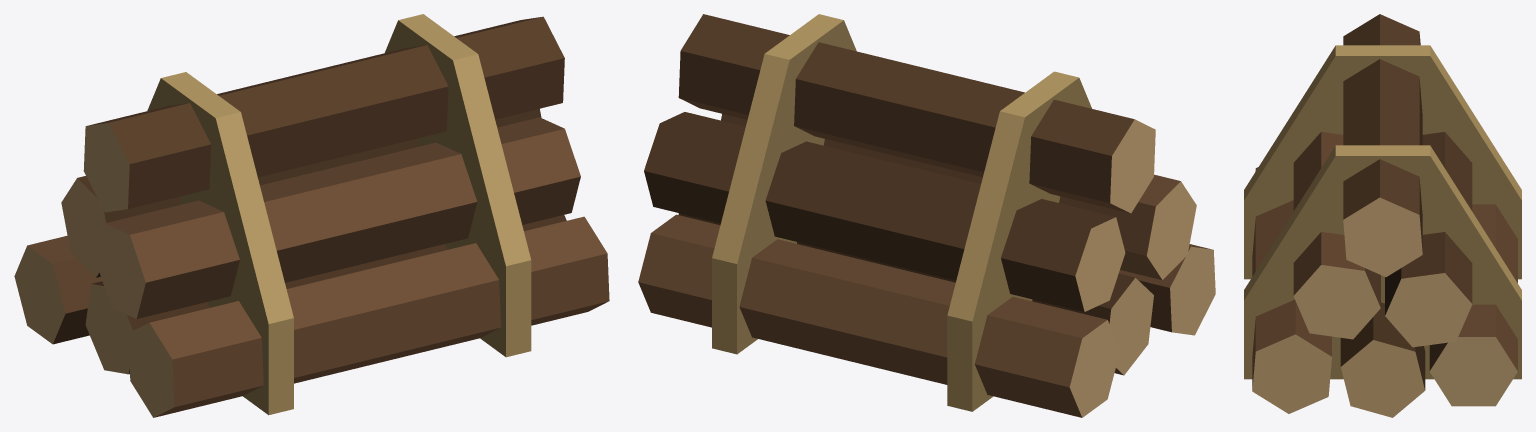
The model's file is gear-firewood.glb.
The picture shows the model from 3 angles, left to right: view 1: azimuth 30°, elevation 25°; view 2: azimuth 150°, elevation 25°; view 3: azimuth 270°, elevation 25°; orthographic projection. The views are drawn at different scales.
Parts seen in each view (by area): view 1: Firewood; view 2: Firewood; view 3: Firewood.
Part boxes in pixels (bbox=[...]): Firewood: bbox=[14, 14, 609, 417]; Firewood: bbox=[638, 14, 1215, 417]; Firewood: bbox=[1244, 14, 1521, 417].
Size of the model in its own units: 0.576 by 0.312 by 0.352.
